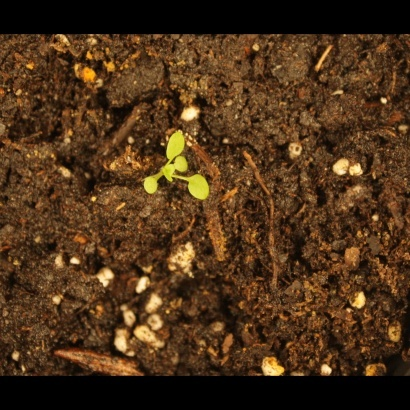leaf: (162, 126, 190, 163), (184, 173, 217, 204), (139, 174, 162, 203), (171, 153, 194, 176), (155, 161, 178, 184)
